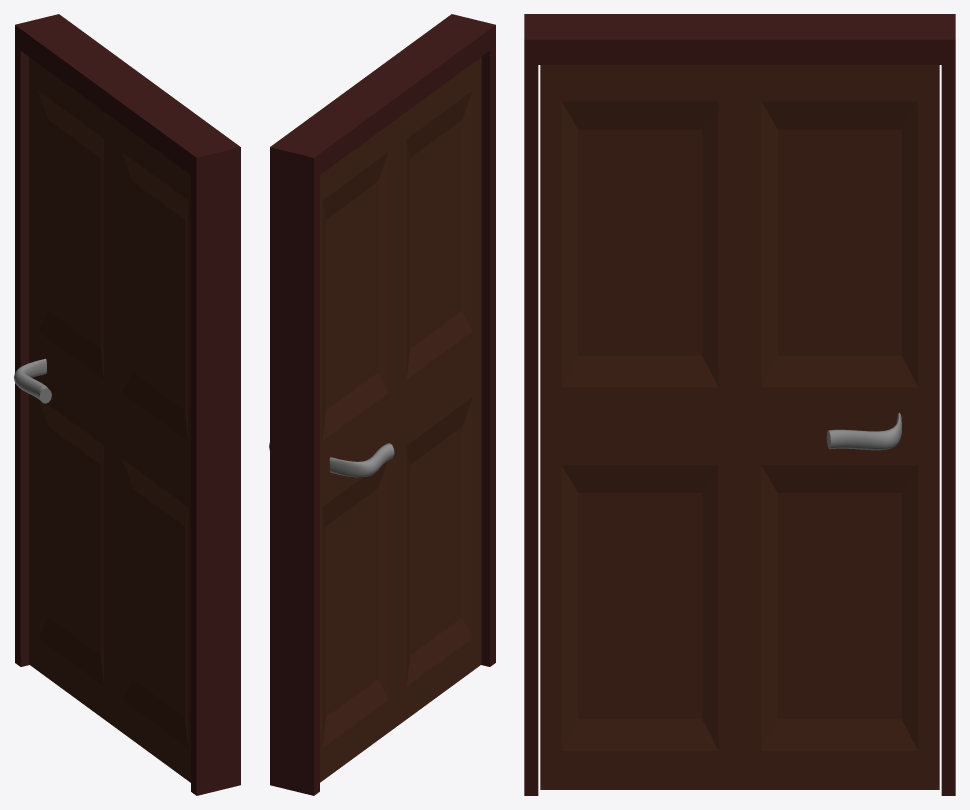
Rendered from Door.fbx.
3 renders of one model, left to right at view 1: azimuth 30°, elevation 25°; view 2: azimuth 150°, elevation 25°; view 3: azimuth 270°, elevation 25°, orthographic. The views are drawn at different scales.
Parts seen in each view (by area): view 1: Cube, Cube.001, BézierCurve; view 2: Cube, Cube.001, BézierCurve; view 3: Cube, Cube.001, BézierCurve.
Part boxes in pixels (box(x1,y1,x2,y2)): Cube: box(29, 57, 190, 782); Cube.001: box(15, 14, 240, 795); BézierCurve: box(14, 358, 51, 403); Cube: box(320, 57, 481, 782); Cube.001: box(270, 14, 495, 795); BézierCurve: box(269, 442, 394, 477); Cube: box(540, 65, 939, 789); Cube.001: box(524, 14, 955, 795); BézierCurve: box(826, 413, 901, 450).
Bounding box in the file's own units: 0.7122 × 2.14 × 4.14.
